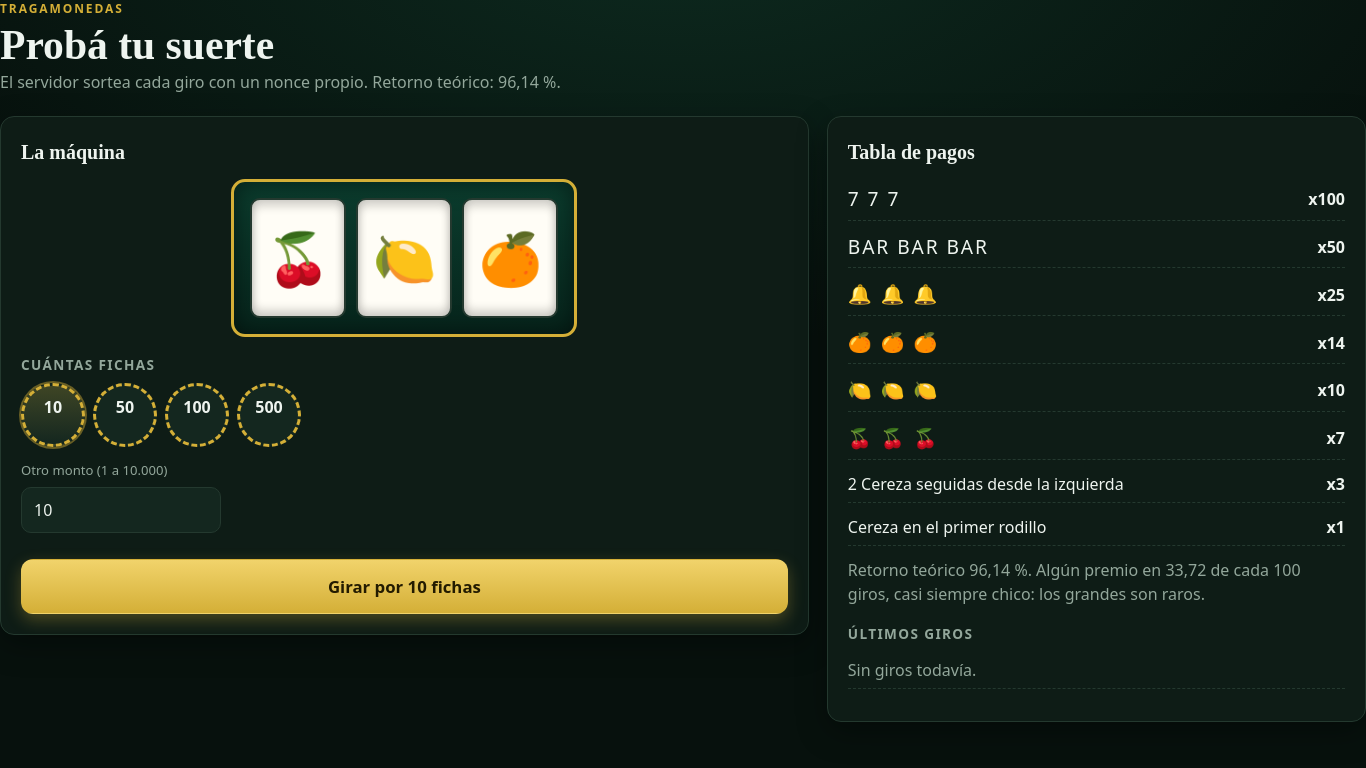
Test: Slots › explains a rejected spin in plain language and stops the reels
Click the button "Girar por 10 fichas". click: (404, 586)
box: [21, 559, 788, 614]
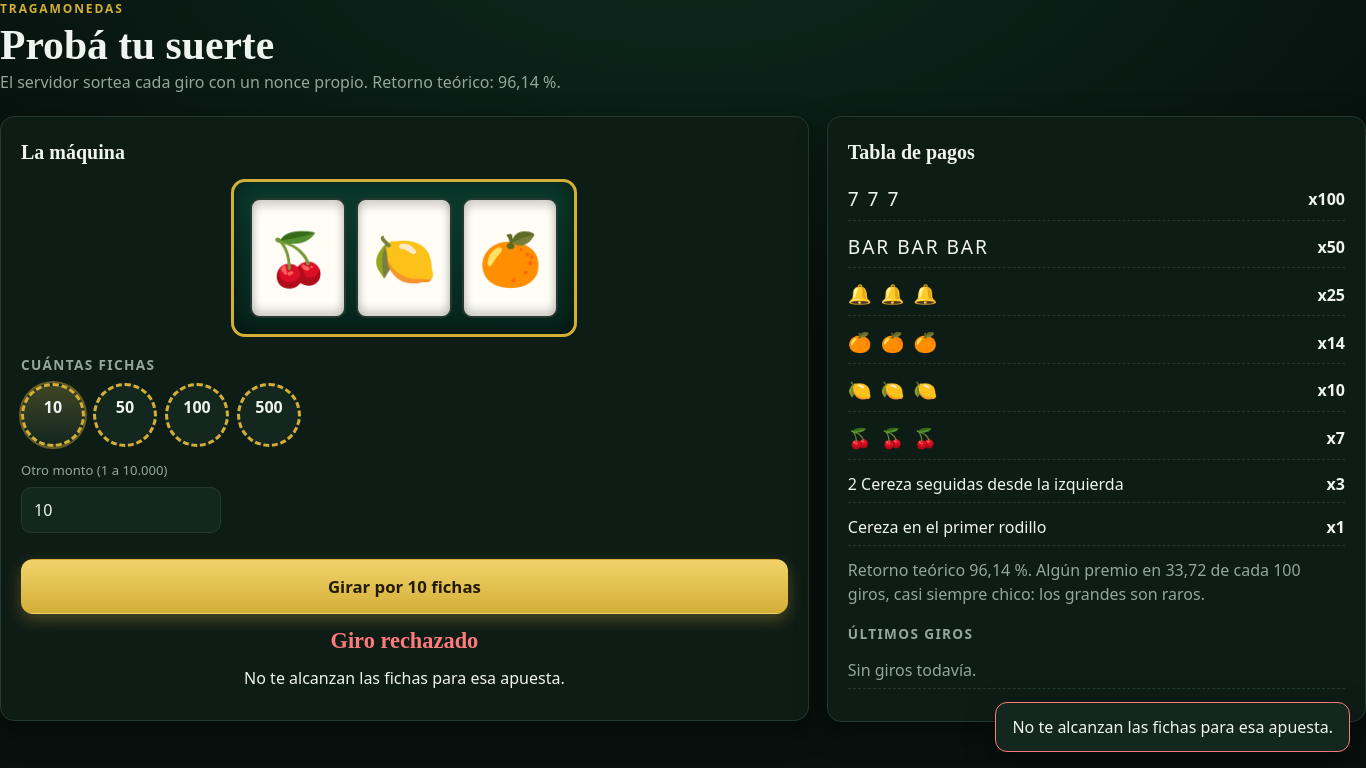
Expected: the text "Giro rechazado" is shown, [330, 624, 478, 658]
Expected: the text "No te alcanzan las fichas para esa apuesta." below "Giro rechazado" is shown, [244, 667, 565, 689]
